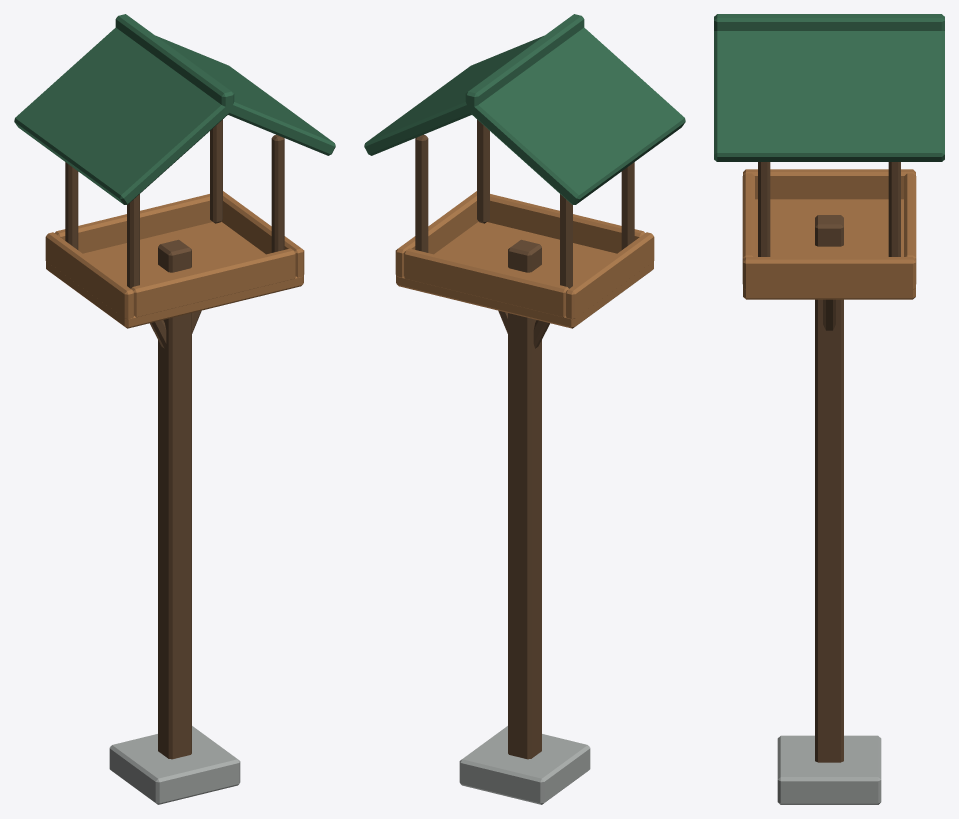
File: b11_roofed_platform_bird_feeder.glb
3 renders of one model, left to right at view 1: azimuth 30°, elevation 25°; view 2: azimuth 150°, elevation 25°; view 3: azimuth 270°, elevation 25°, orthographic. The views are drawn at different scales.
Visible parts, largest first — view 1: b11_roofed_platform_bird_feeder; view 2: b11_roofed_platform_bird_feeder; view 3: b11_roofed_platform_bird_feeder.
Boxes of the visible parts, x1,y1,x2,y2 form: b11_roofed_platform_bird_feeder: (14,14,335,804); b11_roofed_platform_bird_feeder: (364,14,685,804); b11_roofed_platform_bird_feeder: (714,14,944,804).
Bounding box in the file's own units: 0.6866 × 2.2 × 0.6.
